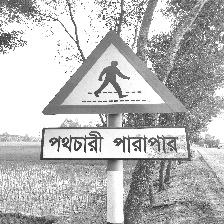Pedestrian-crossing: (40, 30, 190, 160)
